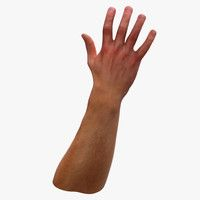finger: (114, 1, 135, 43), (125, 13, 149, 46), (131, 31, 160, 55), (101, 5, 115, 44)
